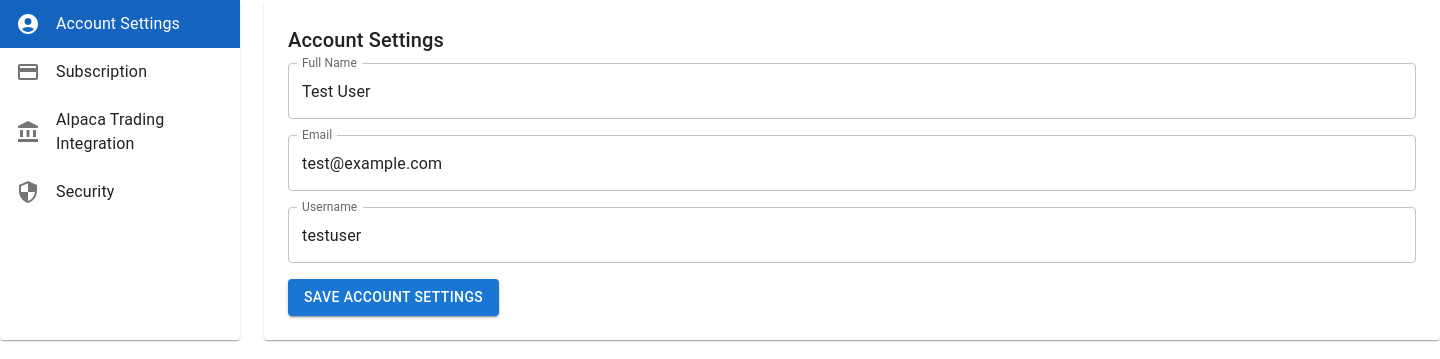
Scenario: Settings Component › Subscription Section › shows cancel subscription button for paid plans
The width and height of the screenshot is (1440, 359).
Click the button "Subscription" at x=82, y=72, box 16,60 -> 147,84
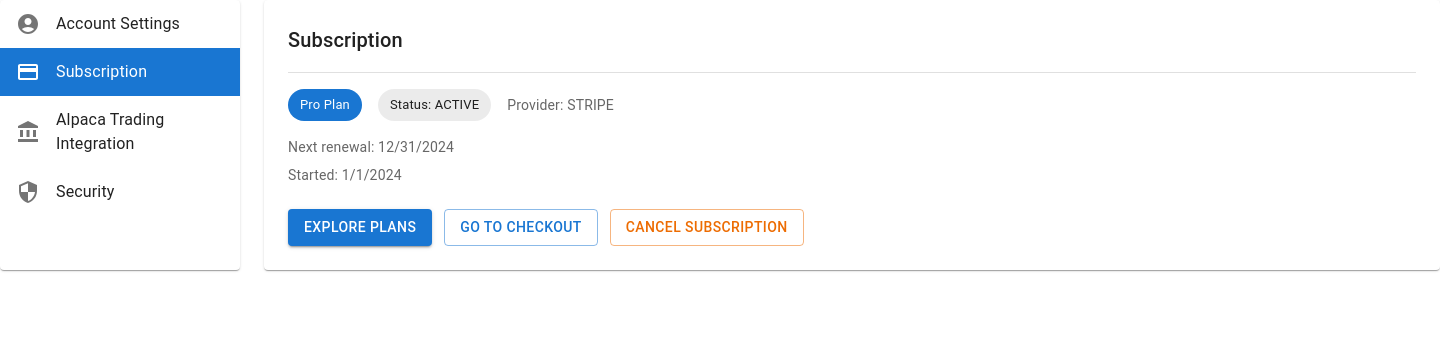
Check: the button "Cancel Subscription" is shown, box 610,209 -> 804,246
